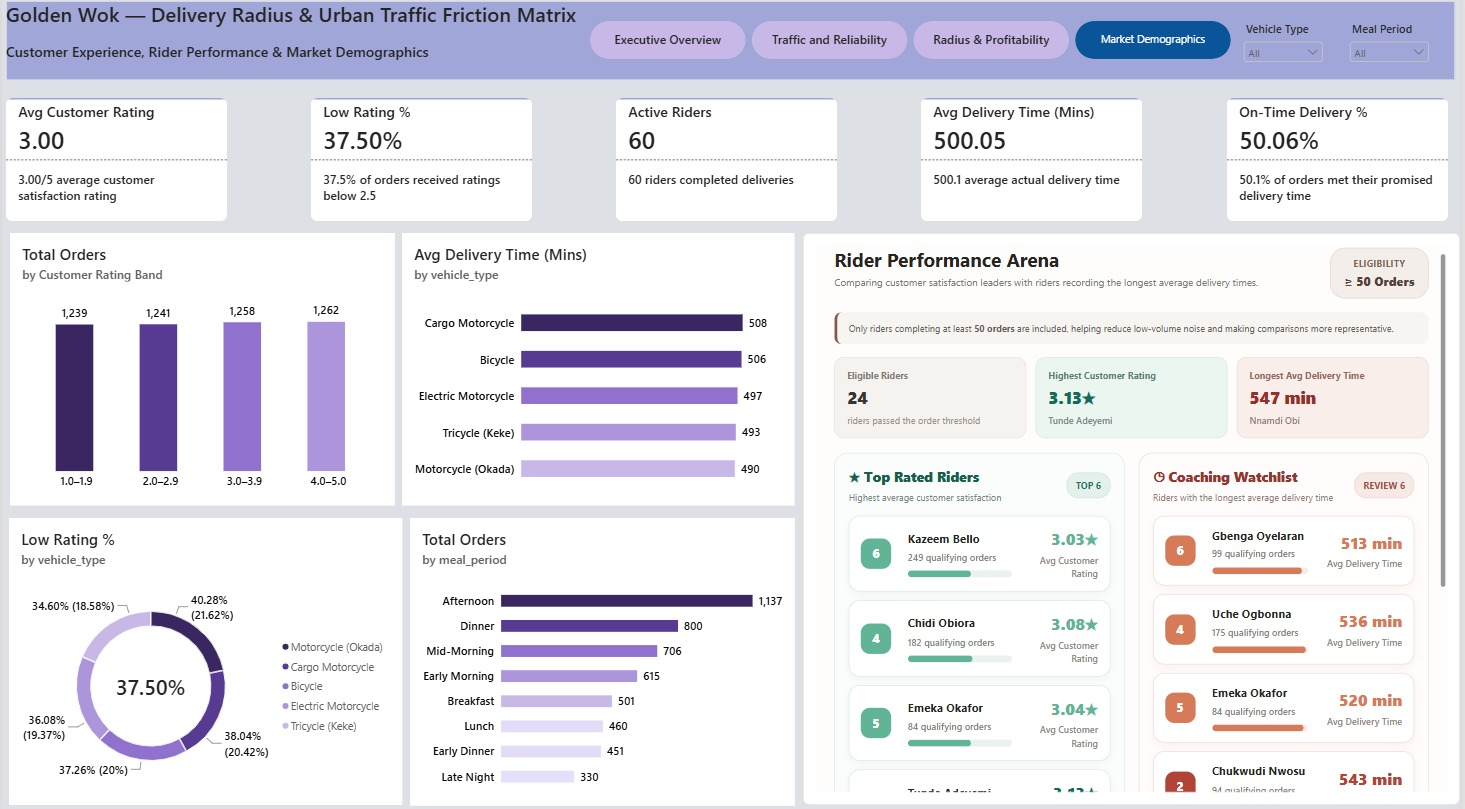

What the dashboard file says about the page in this screenshot:
{"tool":"powerbi","page":{"name":"Market Demographics","canvas":[1920,1080],"ordinal":3},"visuals":[{"type":"shape","box":[5.7,10,1908.6,104.3],"z":0},{"type":"cardVisual","fields":{"Data":["Dax Measure.Avg Customer Rating"]},"box":[5.6,138.9,291.7,162.5],"z":1000},{"type":"cardVisual","fields":{"Data":["Dax Measure.Low Rating %"]},"box":[407.4,138.9,291.7,162.5],"z":2000},{"type":"cardVisual","fields":{"Data":["Dax Measure.Active Riders"]},"box":[809.2,138.9,291.7,162.5],"z":3000},{"type":"clusteredColumnChart","fields":{"Category":["fact_orders.Customer Rating Band"],"Y":["Dax Measure.Total Orders"]},"box":[10,315.7,507.1,358.6],"z":4000},{"type":"clusteredBarChart","fields":{"Category":["dim_rider.vehicle_type"],"Y":["Dax Measure.Avg Delivery Time (Mins)"]},"box":[527.1,315.7,517.1,358.6],"z":5000},{"type":"textbox","box":[5.4,9.5,759.5,105.4],"z":6000},{"type":"cardVisual","fields":{"Data":["Dax Measure.Avg Delivery Time"]},"box":[1211,138.6,291.7,162.5],"z":7000},{"type":"cardVisual","fields":{"Data":["Dax Measure.On-Time Delivery %"]},"box":[1612.9,138.6,291.7,162.5],"z":8000},{"type":"donutChart","fields":{"Category":["dim_rider.vehicle_type"],"Y":["Dax Measure.Low Rating %"]},"box":[9.5,691.9,517.6,378.4],"z":9000},{"type":"htmlContent443BE3AD55E043BF878BED274D3A6865","fields":{"content":["Dax Measure.HTML - Rider Performance Arena"]},"box":[1055,316.1,865.3,763.9],"z":10000},{"type":"clusteredBarChart","fields":{"Category":["dim_time_slot.meal_period"],"Y":["Dax Measure.Total Orders"]},"box":[537.1,691.4,507.1,378.6],"z":11000},{"type":"pageNavigator","box":[774.3,36.5,847.3,50],"z":11001},{"type":"slicer","fields":{"Values":["dim_rider.vehicle_type"]},"box":[1631.1,36.5,113.5,60.8],"z":11002},{"type":"slicer","fields":{"Values":["dim_time_slot.meal_period"]},"box":[1770.3,36.5,113.5,60.8],"z":11003}]}

Visuals, with their boxes in screenshot pixels (x1, y1, x2, y2), scaled from the page's 1920x1080 canvas onto the 1465x809 screenshot:
shape: 4:7:1461:86
cardVisual - Dax Measure.Avg Customer Rating: 4:104:227:226
cardVisual - Dax Measure.Low Rating %: 311:104:533:226
cardVisual - Dax Measure.Active Riders: 617:104:840:226
clusteredColumnChart - fact_orders.Customer Rating Band x Dax Measure.Total Orders: 8:236:395:505
clusteredBarChart - dim_rider.vehicle_type x Dax Measure.Avg Delivery Time (Mins): 402:236:797:505
textbox: 4:7:584:86
cardVisual - Dax Measure.Avg Delivery Time: 924:104:1147:226
cardVisual - Dax Measure.On-Time Delivery %: 1231:104:1453:226
donutChart - dim_rider.vehicle_type x Dax Measure.Low Rating %: 7:518:402:802
htmlContent443BE3AD55E043BF878BED274D3A6865 - Dax Measure.HTML - Rider Performance Arena: 805:237:1464:808
clusteredBarChart - dim_time_slot.meal_period x Dax Measure.Total Orders: 410:518:797:802
pageNavigator: 591:27:1237:65
slicer - dim_rider.vehicle_type: 1245:27:1331:73
slicer - dim_time_slot.meal_period: 1351:27:1437:73
